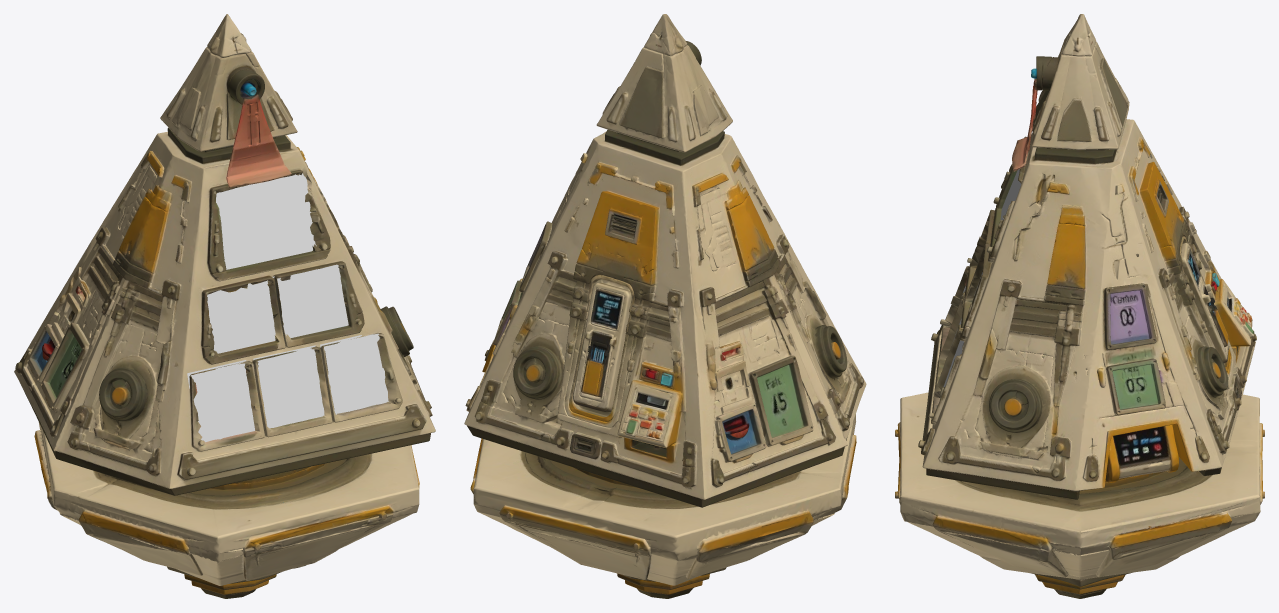
File: pyramid-scanner.glb
The picture shows the model from 3 angles, left to right: view 1: azimuth 30°, elevation 25°; view 2: azimuth 150°, elevation 25°; view 3: azimuth 270°, elevation 25°; orthographic projection.
Visible parts, largest first — view 1: body, screen_name, screen_carbs, screen_vitamins, screen_fat, screen_protein, screen_calories, knob_1, knob_0; view 2: body, knob_2, knob_1; view 3: body, knob_0, knob_2.
Boxes of the visible parts, <box> form: body: <box>14,14,435,598</box>; screen_name: <box>216,173,316,269</box>; screen_carbs: <box>253,345,324,428</box>; screen_vitamins: <box>320,333,388,414</box>; screen_fat: <box>187,360,254,442</box>; screen_protein: <box>272,264,348,337</box>; screen_calories: <box>207,280,275,353</box>; knob_1: <box>99,367,145,421</box>; knob_0: <box>383,306,413,354</box>; body: <box>464,14,866,598</box>; knob_2: <box>513,346,562,398</box>; knob_1: <box>817,325,847,376</box>; body: <box>895,14,1264,598</box>; knob_0: <box>989,379,1041,432</box>; knob_2: <box>1196,346,1228,396</box>.
Bounding box in the file's own units: 0.6339 × 0.9775 × 0.5712.
Materials: 2 (1 with a texture image).
